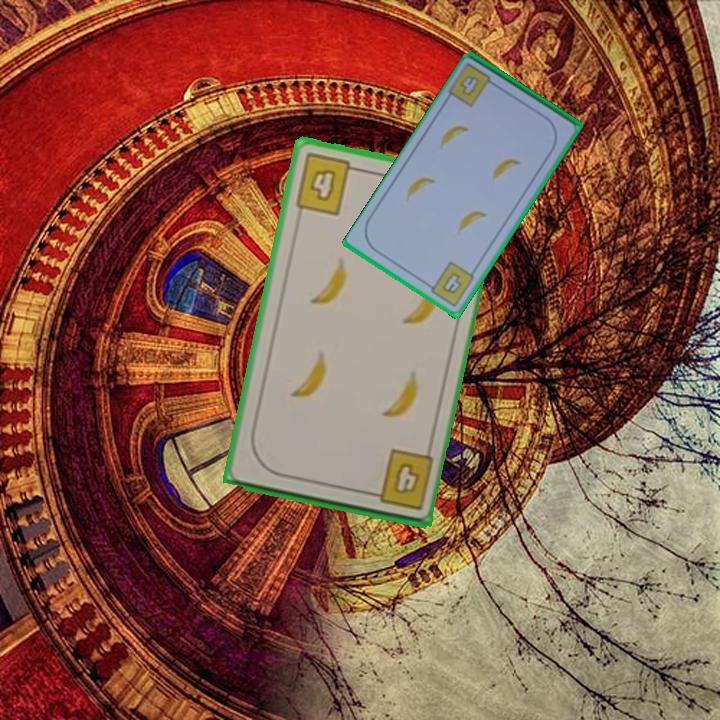4b: (291, 149, 364, 218), (363, 446, 436, 513), (422, 258, 478, 310), (457, 72, 483, 99)
